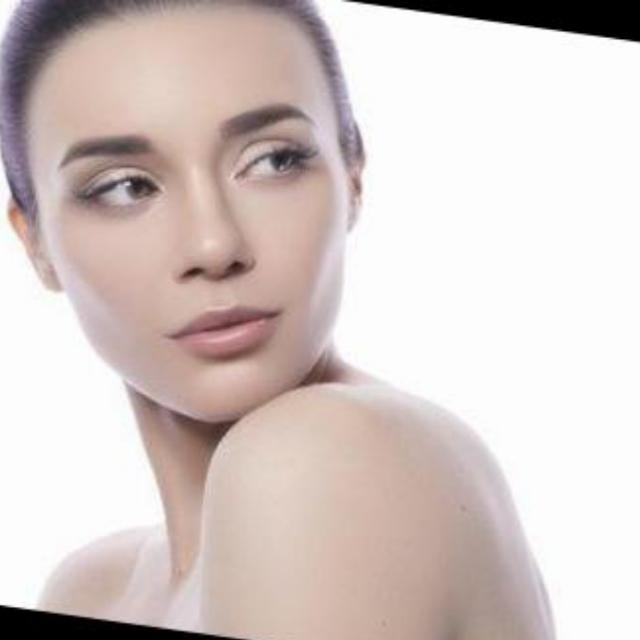Natural: (36, 41, 386, 413)
